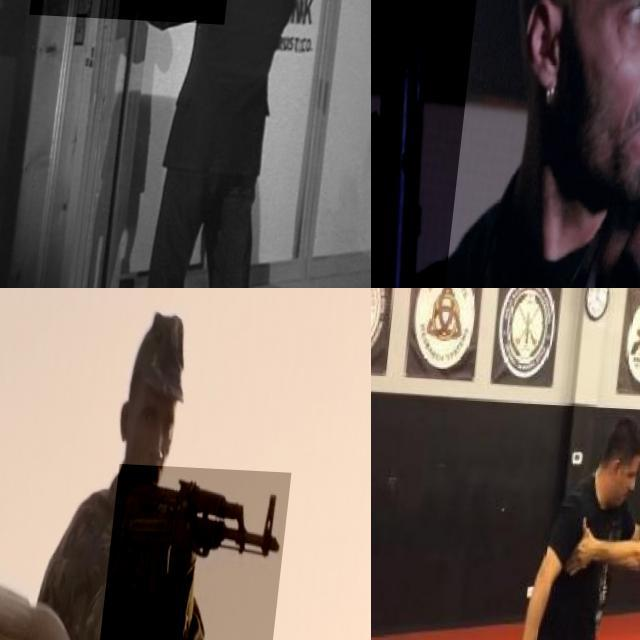gun-knife-thesis - v11 Yolov5 augmented: (371, 0, 496, 288), (104, 461, 297, 640), (35, 0, 241, 62)
